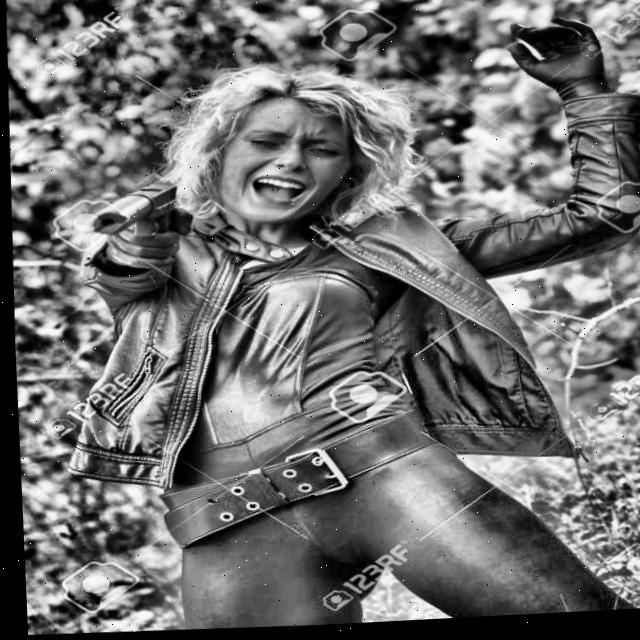pistol: (79, 178, 198, 274)
